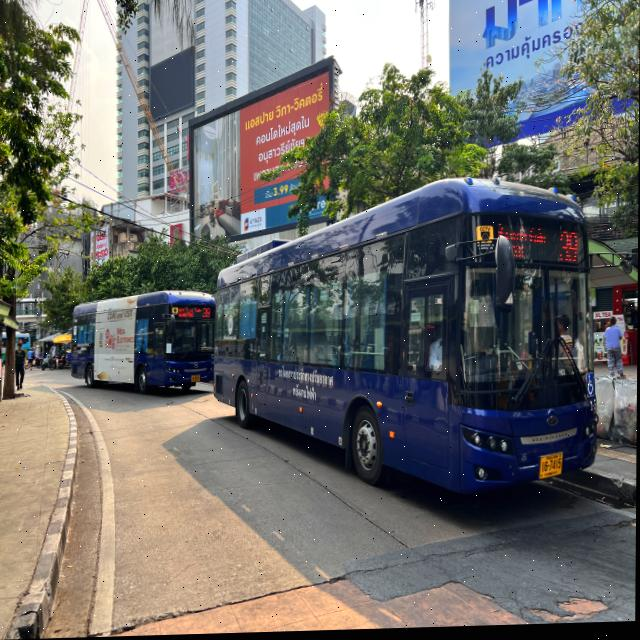Bus Line Number: (557, 230, 582, 269), (203, 308, 212, 319)
Bus Side Number: (590, 401, 598, 415), (212, 362, 215, 366)
Destination Sign: (492, 218, 554, 266), (178, 306, 203, 321)
TSB-Bus: (210, 170, 603, 510), (70, 285, 217, 398)
